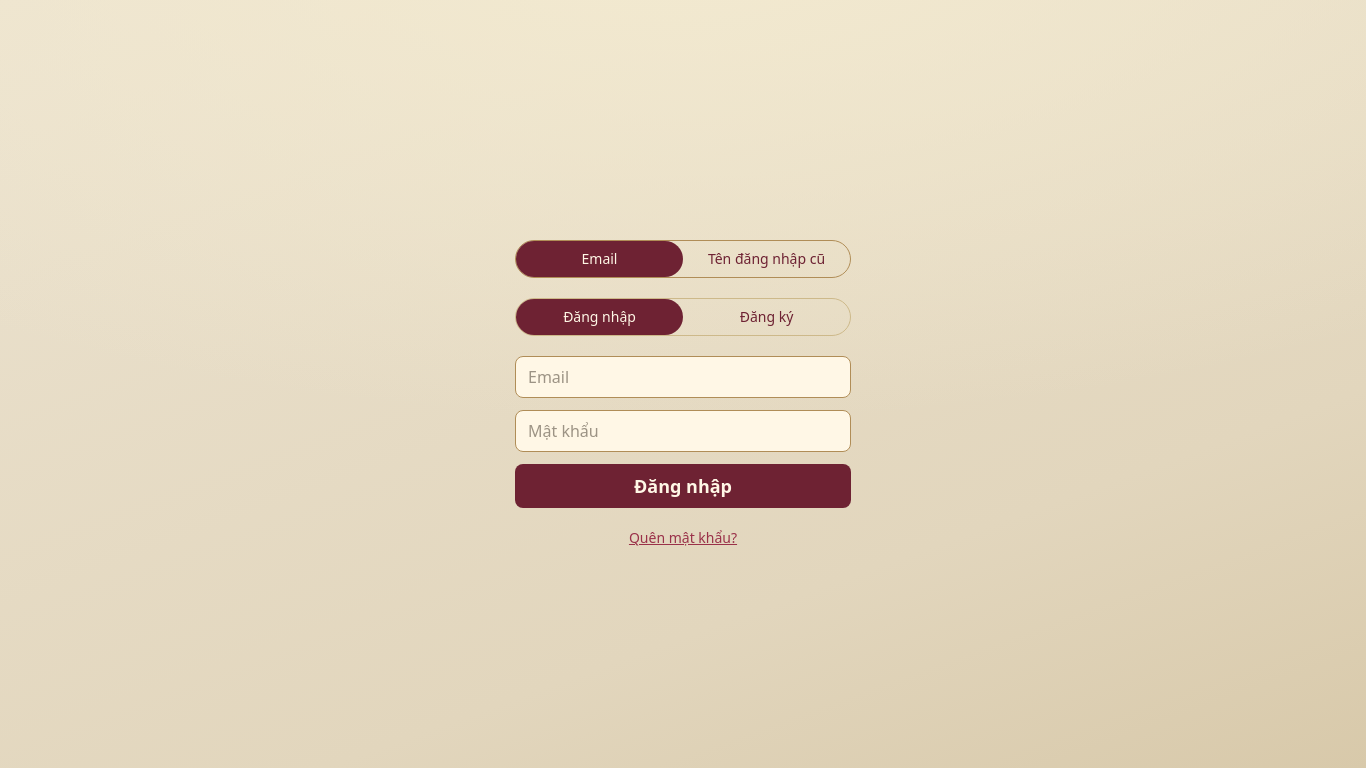
AuthScreen — the Email tab (0112) › shows a wrong email or password in Vietnamese
Type "dat@mail.vn" into the field with placeholder "Email" at {"x": 683, "y": 377}, box [515,356,851,398]
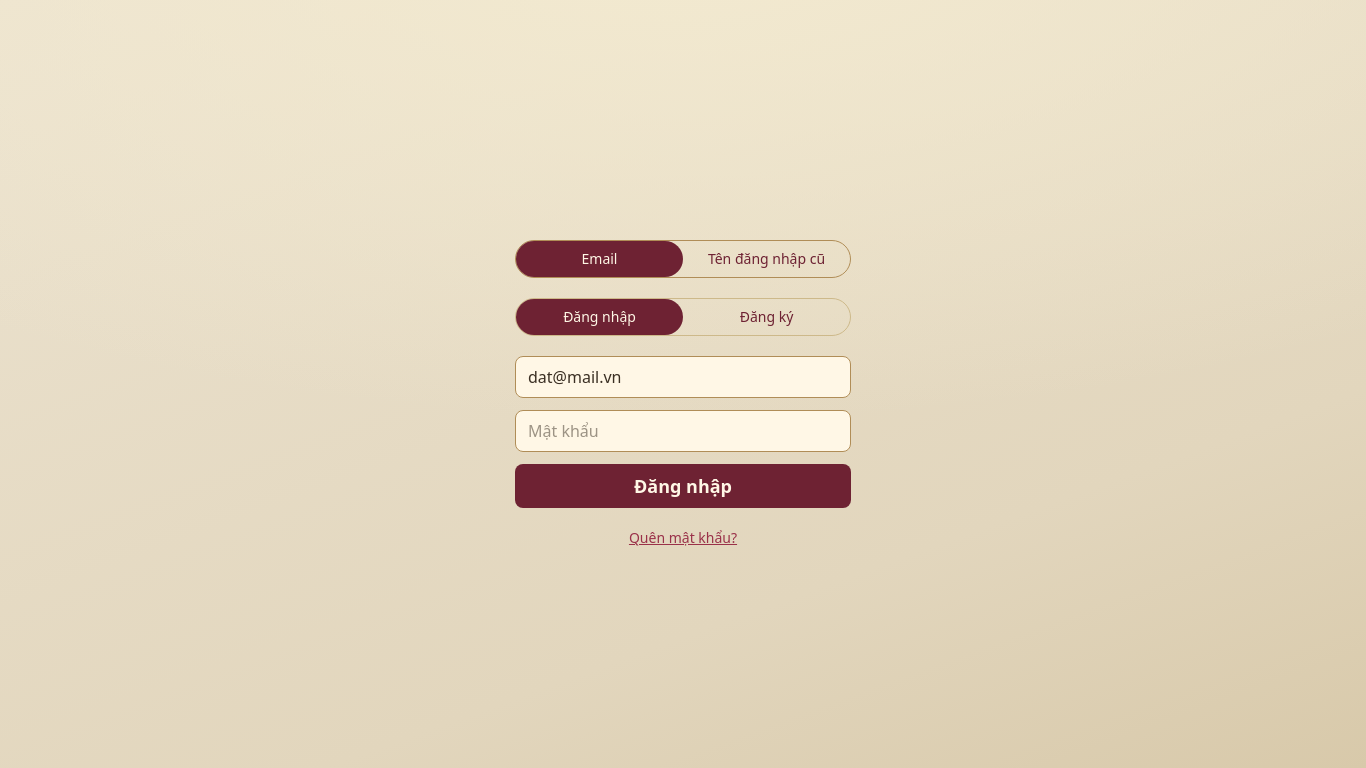
Type "sai-mat-khau" into the password field with placeholder "Mật khẩu" at {"x": 683, "y": 431}, box [515,410,851,452]
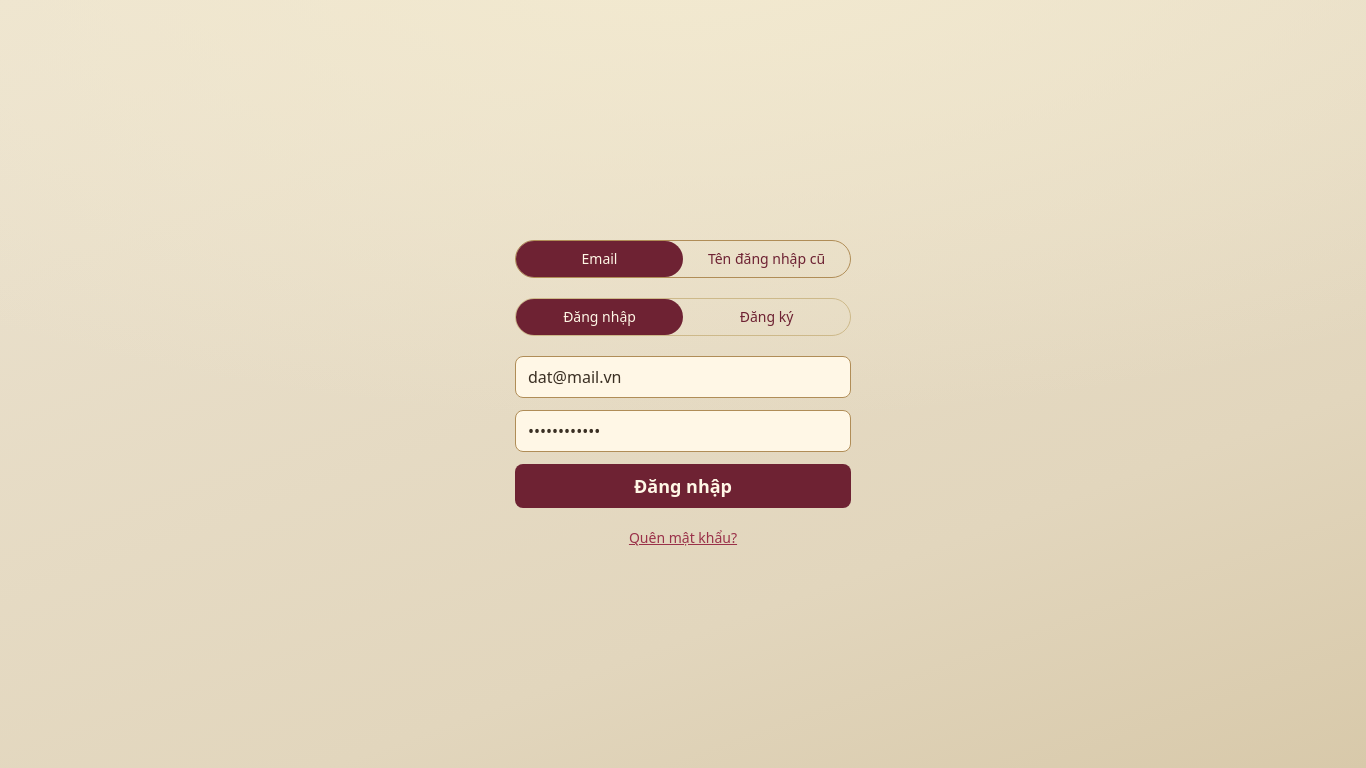
Submit the form with placeholder "Email", box [515,356,851,508]
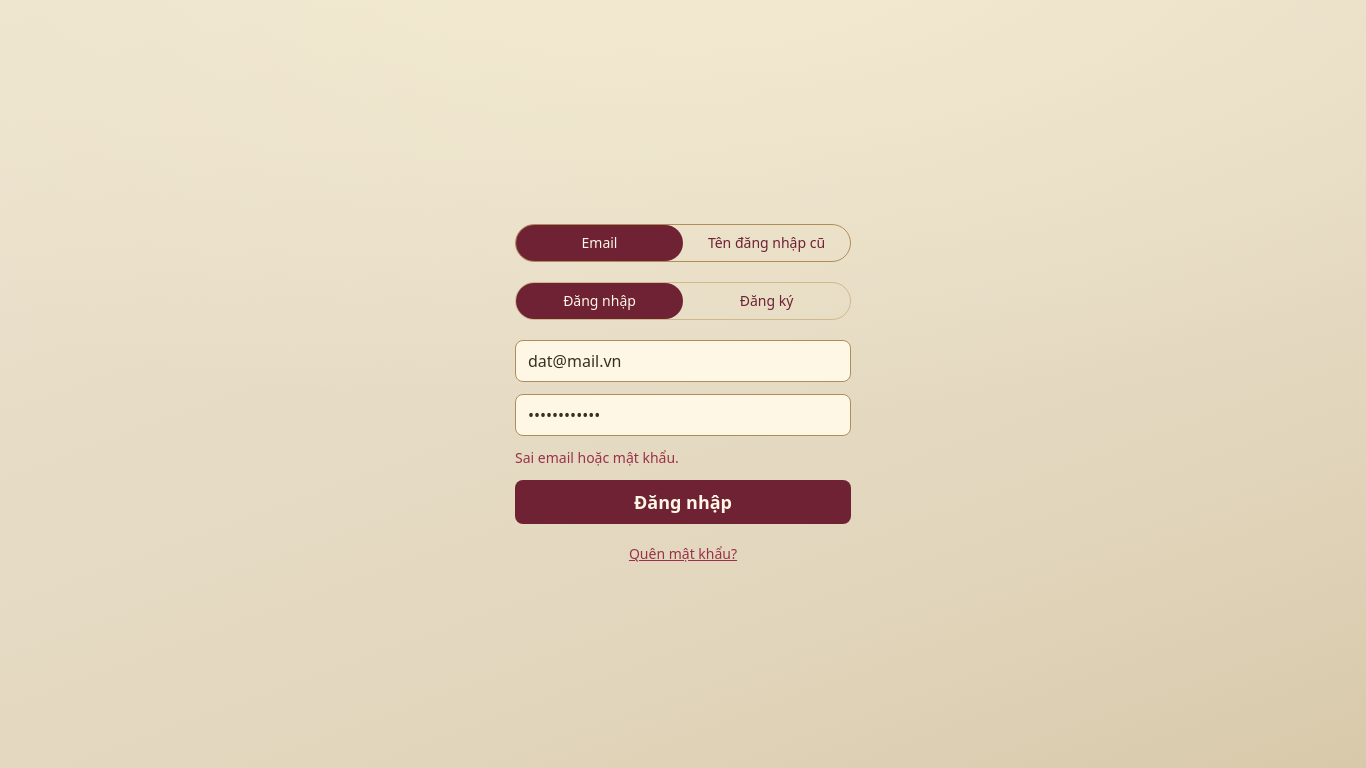
Result: the message reads "Sai email hoặc mật khẩu." at [515,448,679,467]
